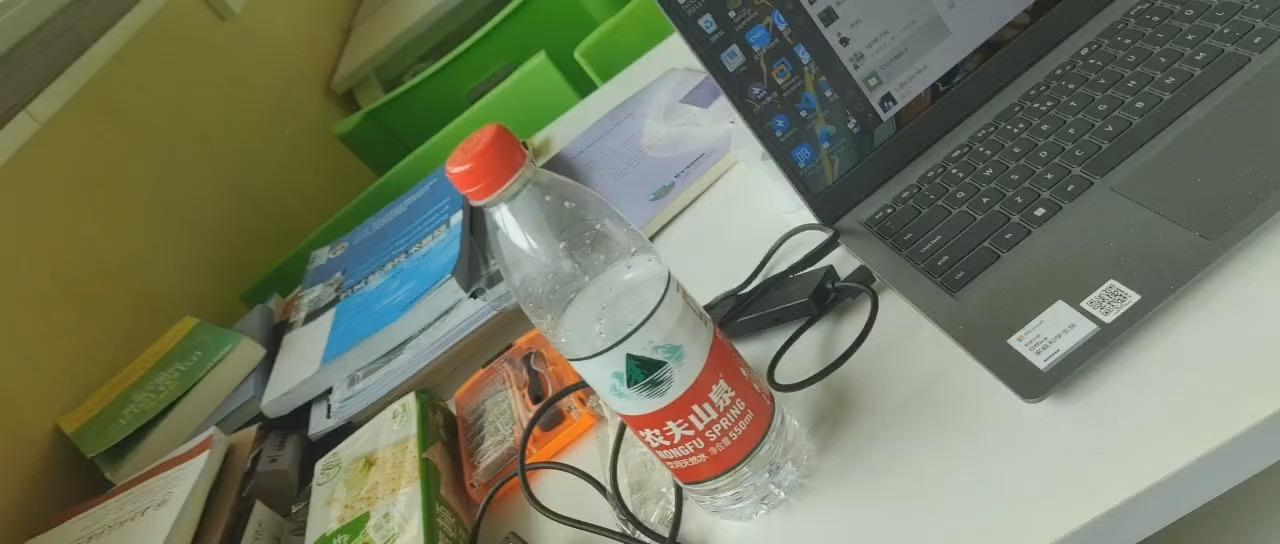BIODEGRADABLE: (445, 119, 808, 528)
